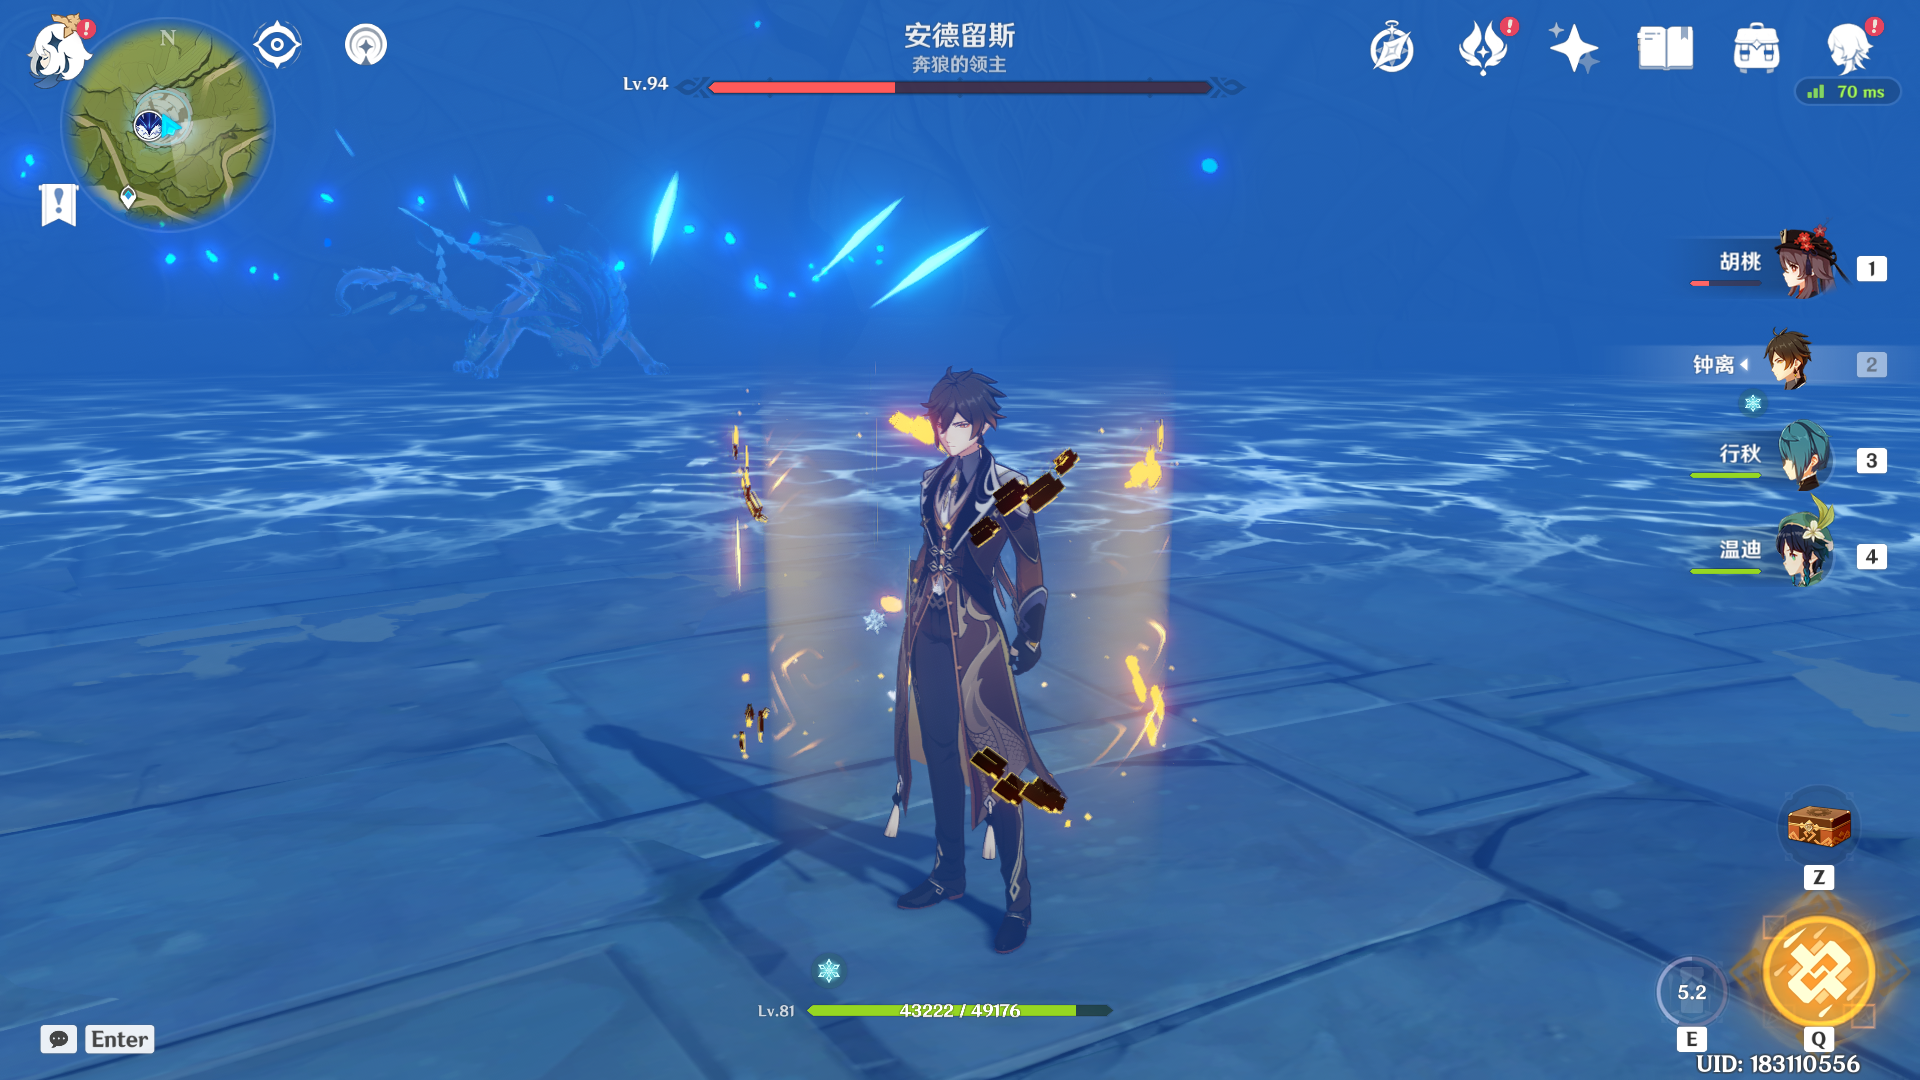character: (775, 323, 1166, 964)
